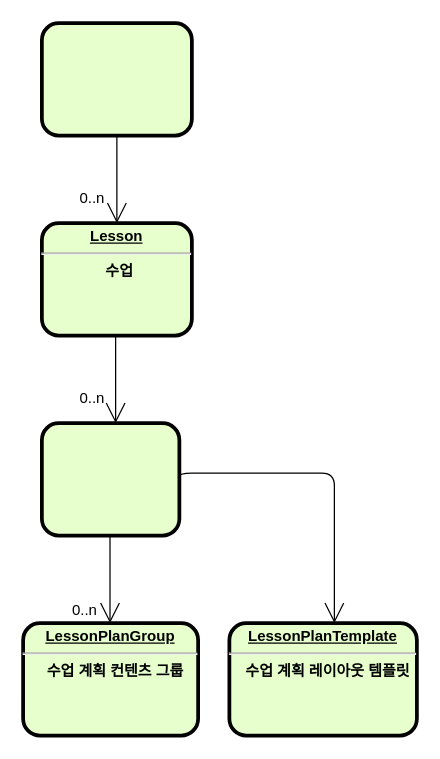
Some shapes in this 440 by 759 pixel diagram are drawn without their labels. The box of each missing label's shape, as (x1, y1, x2, y2) in pixels:
Curriculum 커리큘럼 수업 관리: (39, 21, 193, 137)
LessonPlan 수업 계획: (39, 421, 181, 537)
